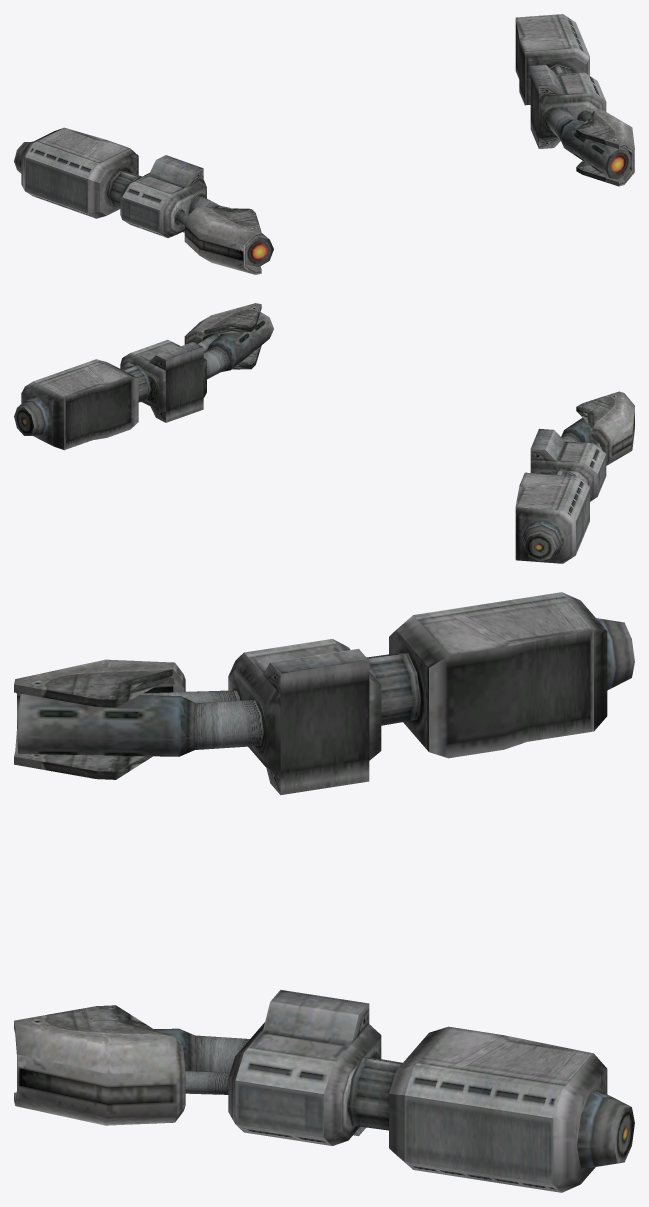
Rendered from kse_firespray_weapon2_s06_l0.fbx.
3 renders of one model, top to bottom at view 1: azimuth 30°, elevation 25°; view 2: azimuth 150°, elevation 25°; view 3: azimuth 270°, elevation 25°, orthographic. The views are drawn at different scales.
Parts seen in each view (by area): view 1: mesh_node; view 2: mesh_node; view 3: mesh_node.
Boxes of the visible parts, x1,y1,x2,y2 form: mesh_node: [14, 14, 634, 274]; mesh_node: [14, 303, 634, 563]; mesh_node: [14, 592, 634, 1192].
Size of the model in its own units: 6.06 by 0.6598 by 3.07.
